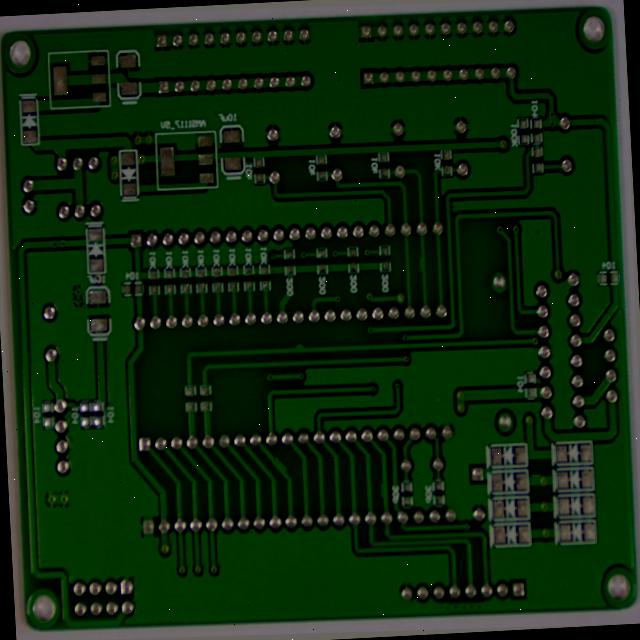spur: (291, 336, 309, 362), (272, 458, 291, 479), (533, 468, 551, 487), (414, 252, 429, 272), (380, 483, 392, 503)
